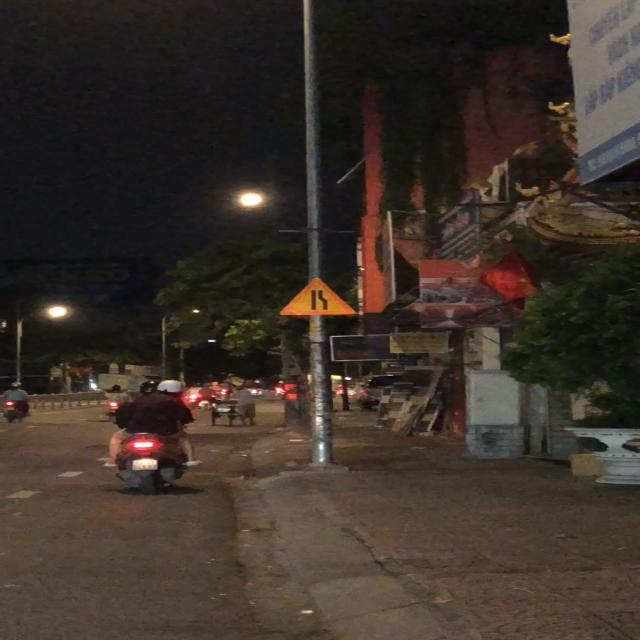Bien bao duong bi thu hep: (278, 276, 362, 317)
